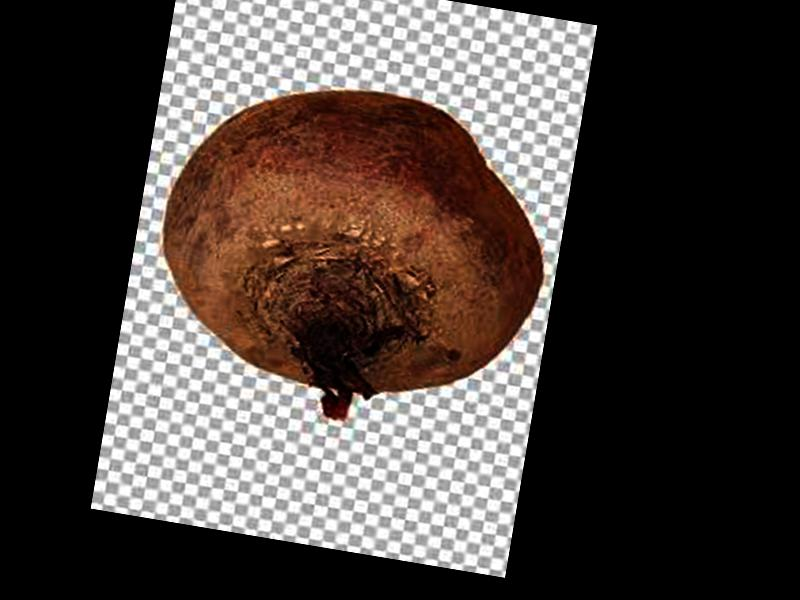Beet: (139, 63, 564, 449)
